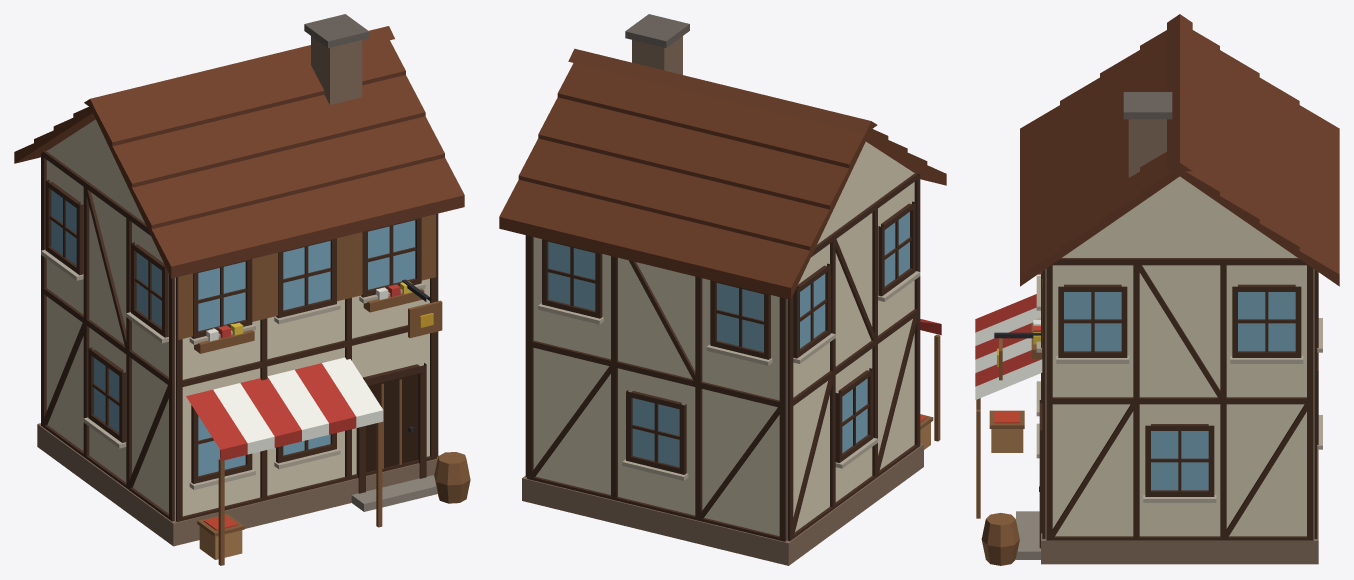
The model's file is house_10_shop_sobrado.fbx.
3 views of the same model, side by side, from view 1: azimuth 30°, elevation 25°; view 2: azimuth 150°, elevation 25°; view 3: azimuth 270°, elevation 25° (orthographic). The views are drawn at different scales.
Visible parts, largest first — view 1: house_10_shop_sobrado; view 2: house_10_shop_sobrado; view 3: house_10_shop_sobrado.
Part boxes in pixels (box(x1,y1,x2,y2)): house_10_shop_sobrado: box(14, 14, 470, 565); house_10_shop_sobrado: box(499, 14, 946, 565); house_10_shop_sobrado: box(975, 14, 1339, 565).
Bounding box in the file's own units: 5.5 × 7.52 × 5.7.
